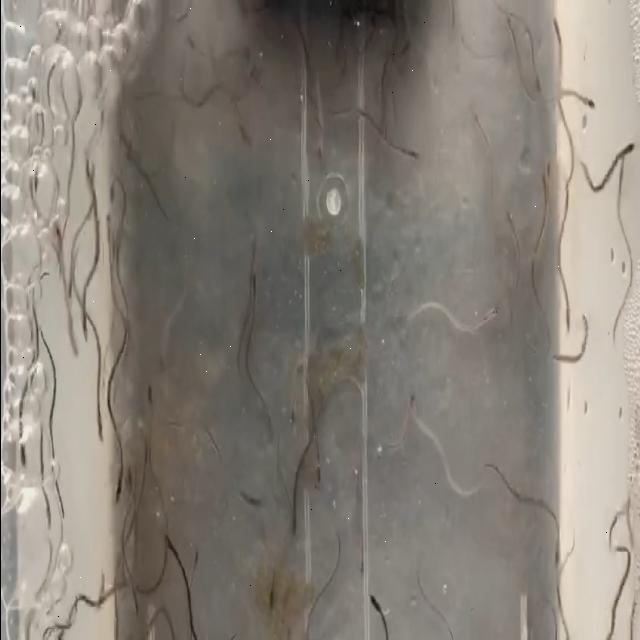active_glass_eel: (310, 455, 330, 505), (491, 196, 518, 228), (152, 528, 174, 566), (85, 405, 105, 446), (112, 462, 128, 511), (553, 296, 573, 334), (36, 492, 54, 532), (404, 136, 424, 169), (368, 574, 380, 628), (140, 362, 156, 402), (127, 586, 141, 628), (79, 319, 95, 352), (247, 269, 262, 304), (264, 586, 280, 618), (584, 86, 602, 114), (462, 93, 478, 122), (241, 127, 257, 155), (538, 160, 550, 196), (242, 235, 256, 265), (487, 299, 499, 331), (407, 394, 419, 426), (550, 5, 562, 36), (288, 508, 298, 545), (28, 168, 40, 198), (550, 554, 564, 578), (56, 496, 70, 518), (63, 284, 75, 308), (624, 130, 634, 158), (534, 76, 544, 96)
